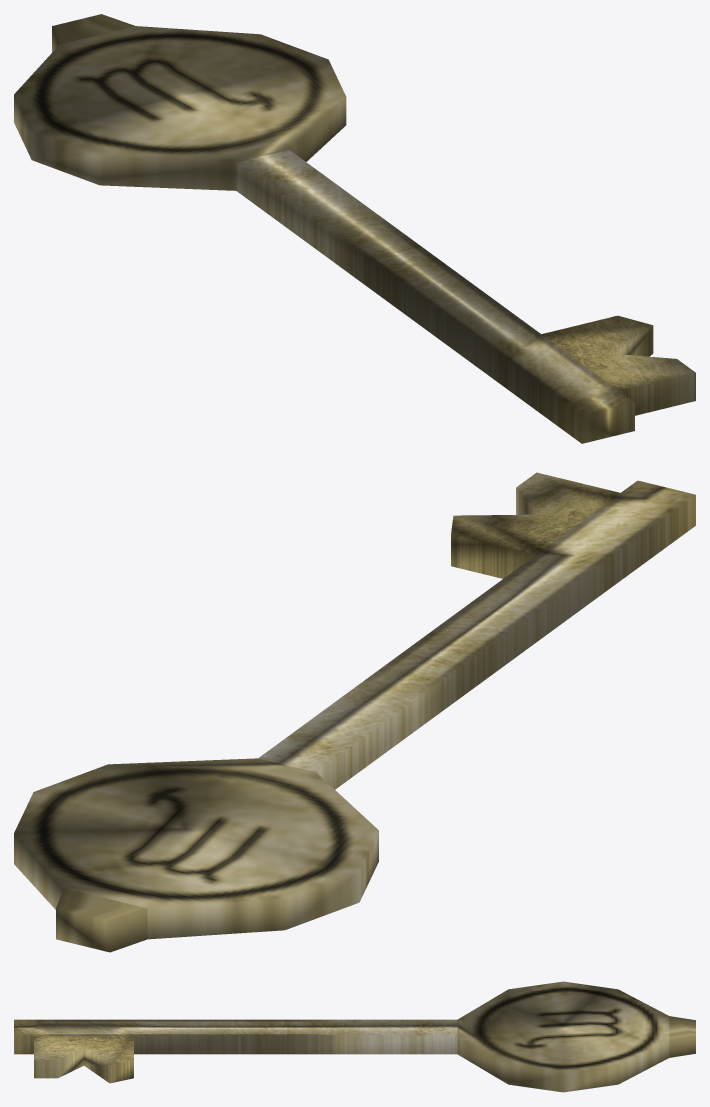
The model's file is key_h_scorpio.fbx.
The picture shows the model from 3 angles, top to bottom: view 1: azimuth 30°, elevation 25°; view 2: azimuth 150°, elevation 25°; view 3: azimuth 270°, elevation 25°; orthographic projection. The views are drawn at different scales.
Visible parts, largest first — view 1: key_h_scorpio; view 2: key_h_scorpio; view 3: key_h_scorpio.
Boxes of the visible parts, bbox=[...] form: key_h_scorpio: bbox=[14, 14, 695, 443]; key_h_scorpio: bbox=[14, 472, 695, 952]; key_h_scorpio: bbox=[14, 981, 695, 1092].
Size of the model in its own units: 9.46 by 0.8583 by 29.34.
1 material, 1 textured.
